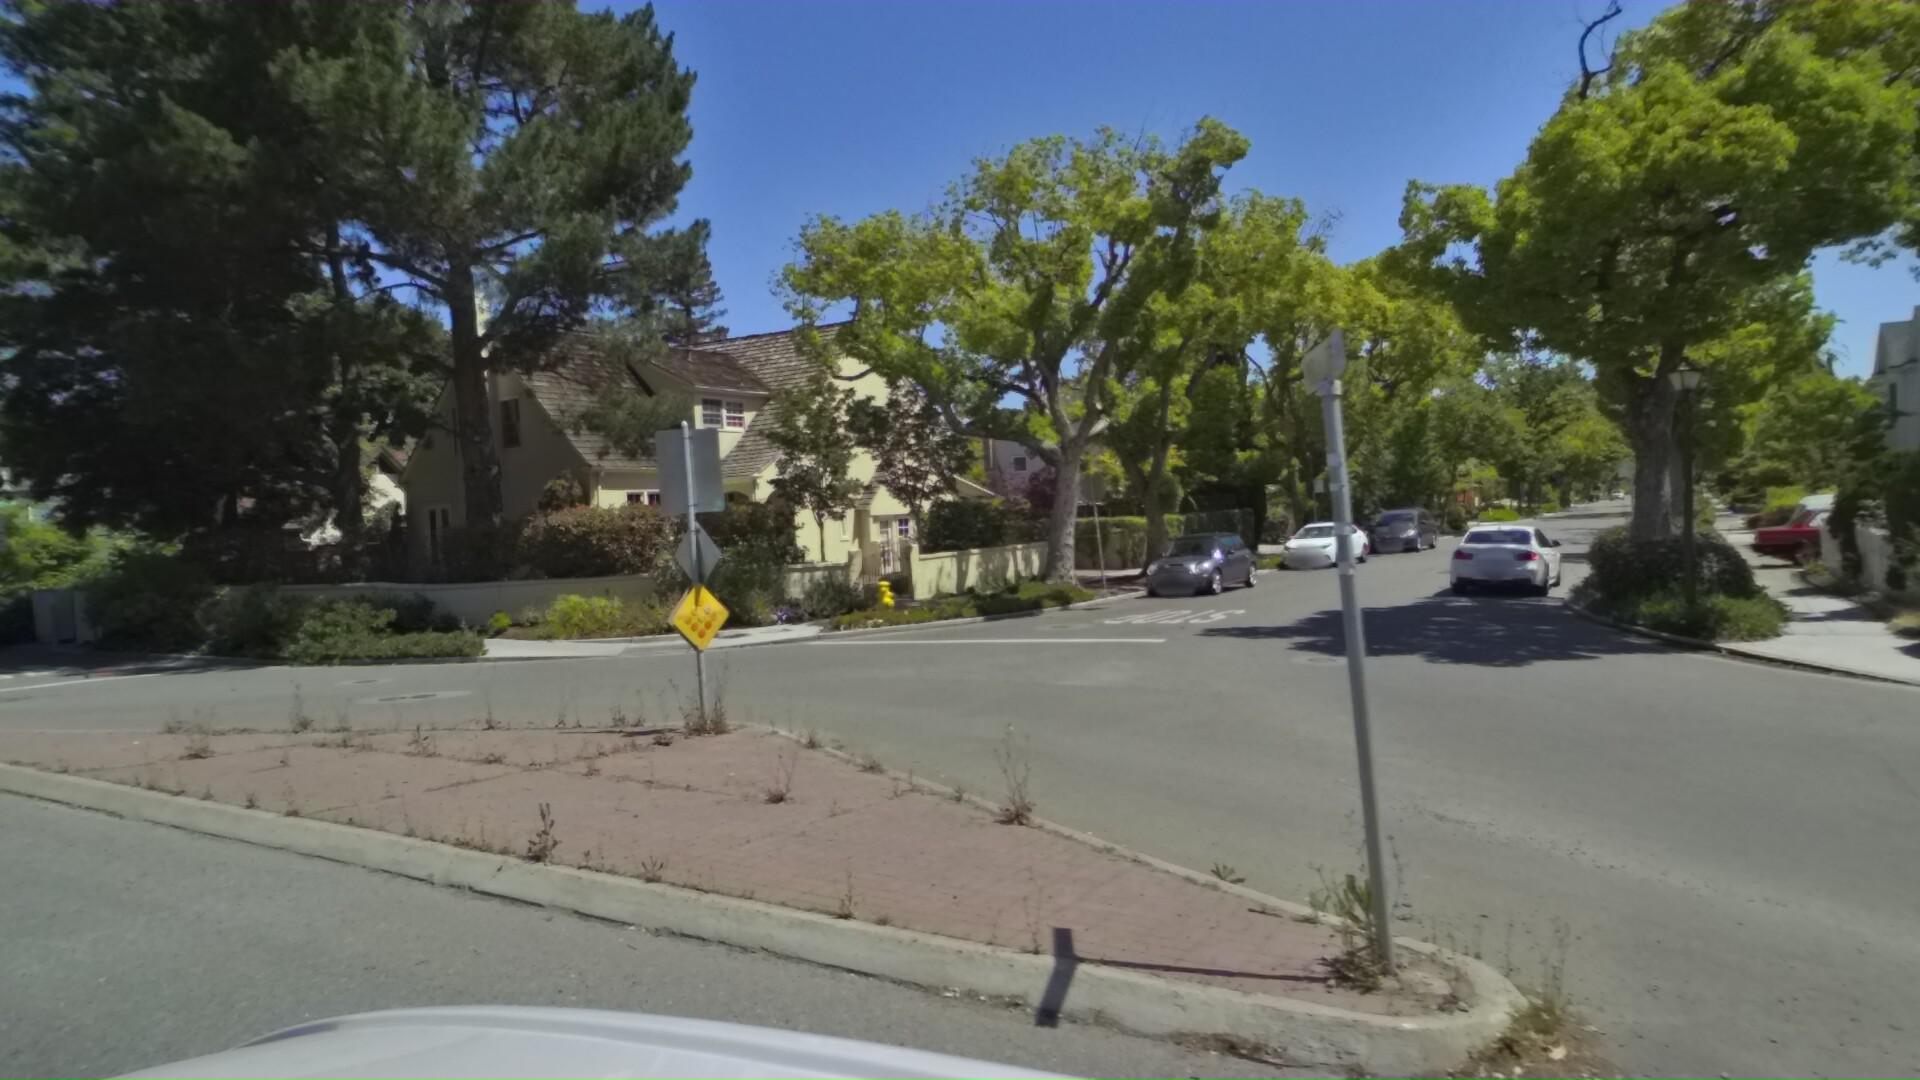car: (1762, 487, 1920, 560), (1458, 506, 1586, 593), (1800, 483, 1920, 568), (1153, 518, 1279, 597), (1284, 509, 1385, 563), (1371, 497, 1449, 549), (0, 574, 15, 663)
